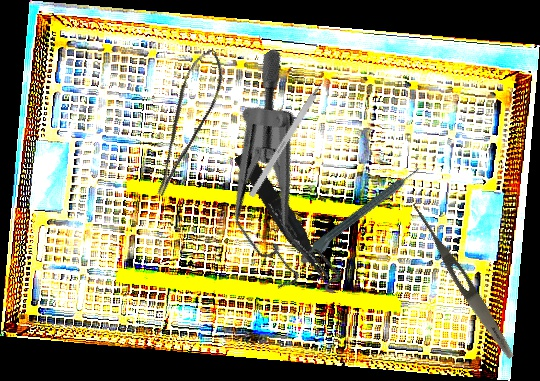Dressing Forceps: (405, 200, 519, 362)
Handpiece: (303, 165, 426, 262)
Hook Surgical: (248, 71, 331, 198)
Micro Scissor: (131, 44, 237, 199)
Speculum: (161, 45, 412, 320)
Tissue Forceps: (233, 146, 333, 289)
